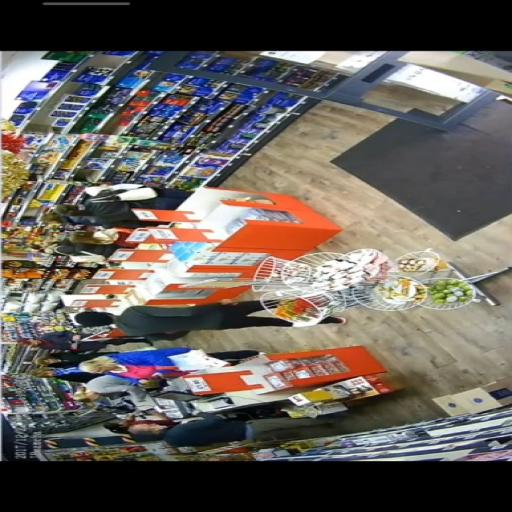workers: (70, 372, 172, 410), (57, 183, 170, 212), (48, 230, 124, 262)
